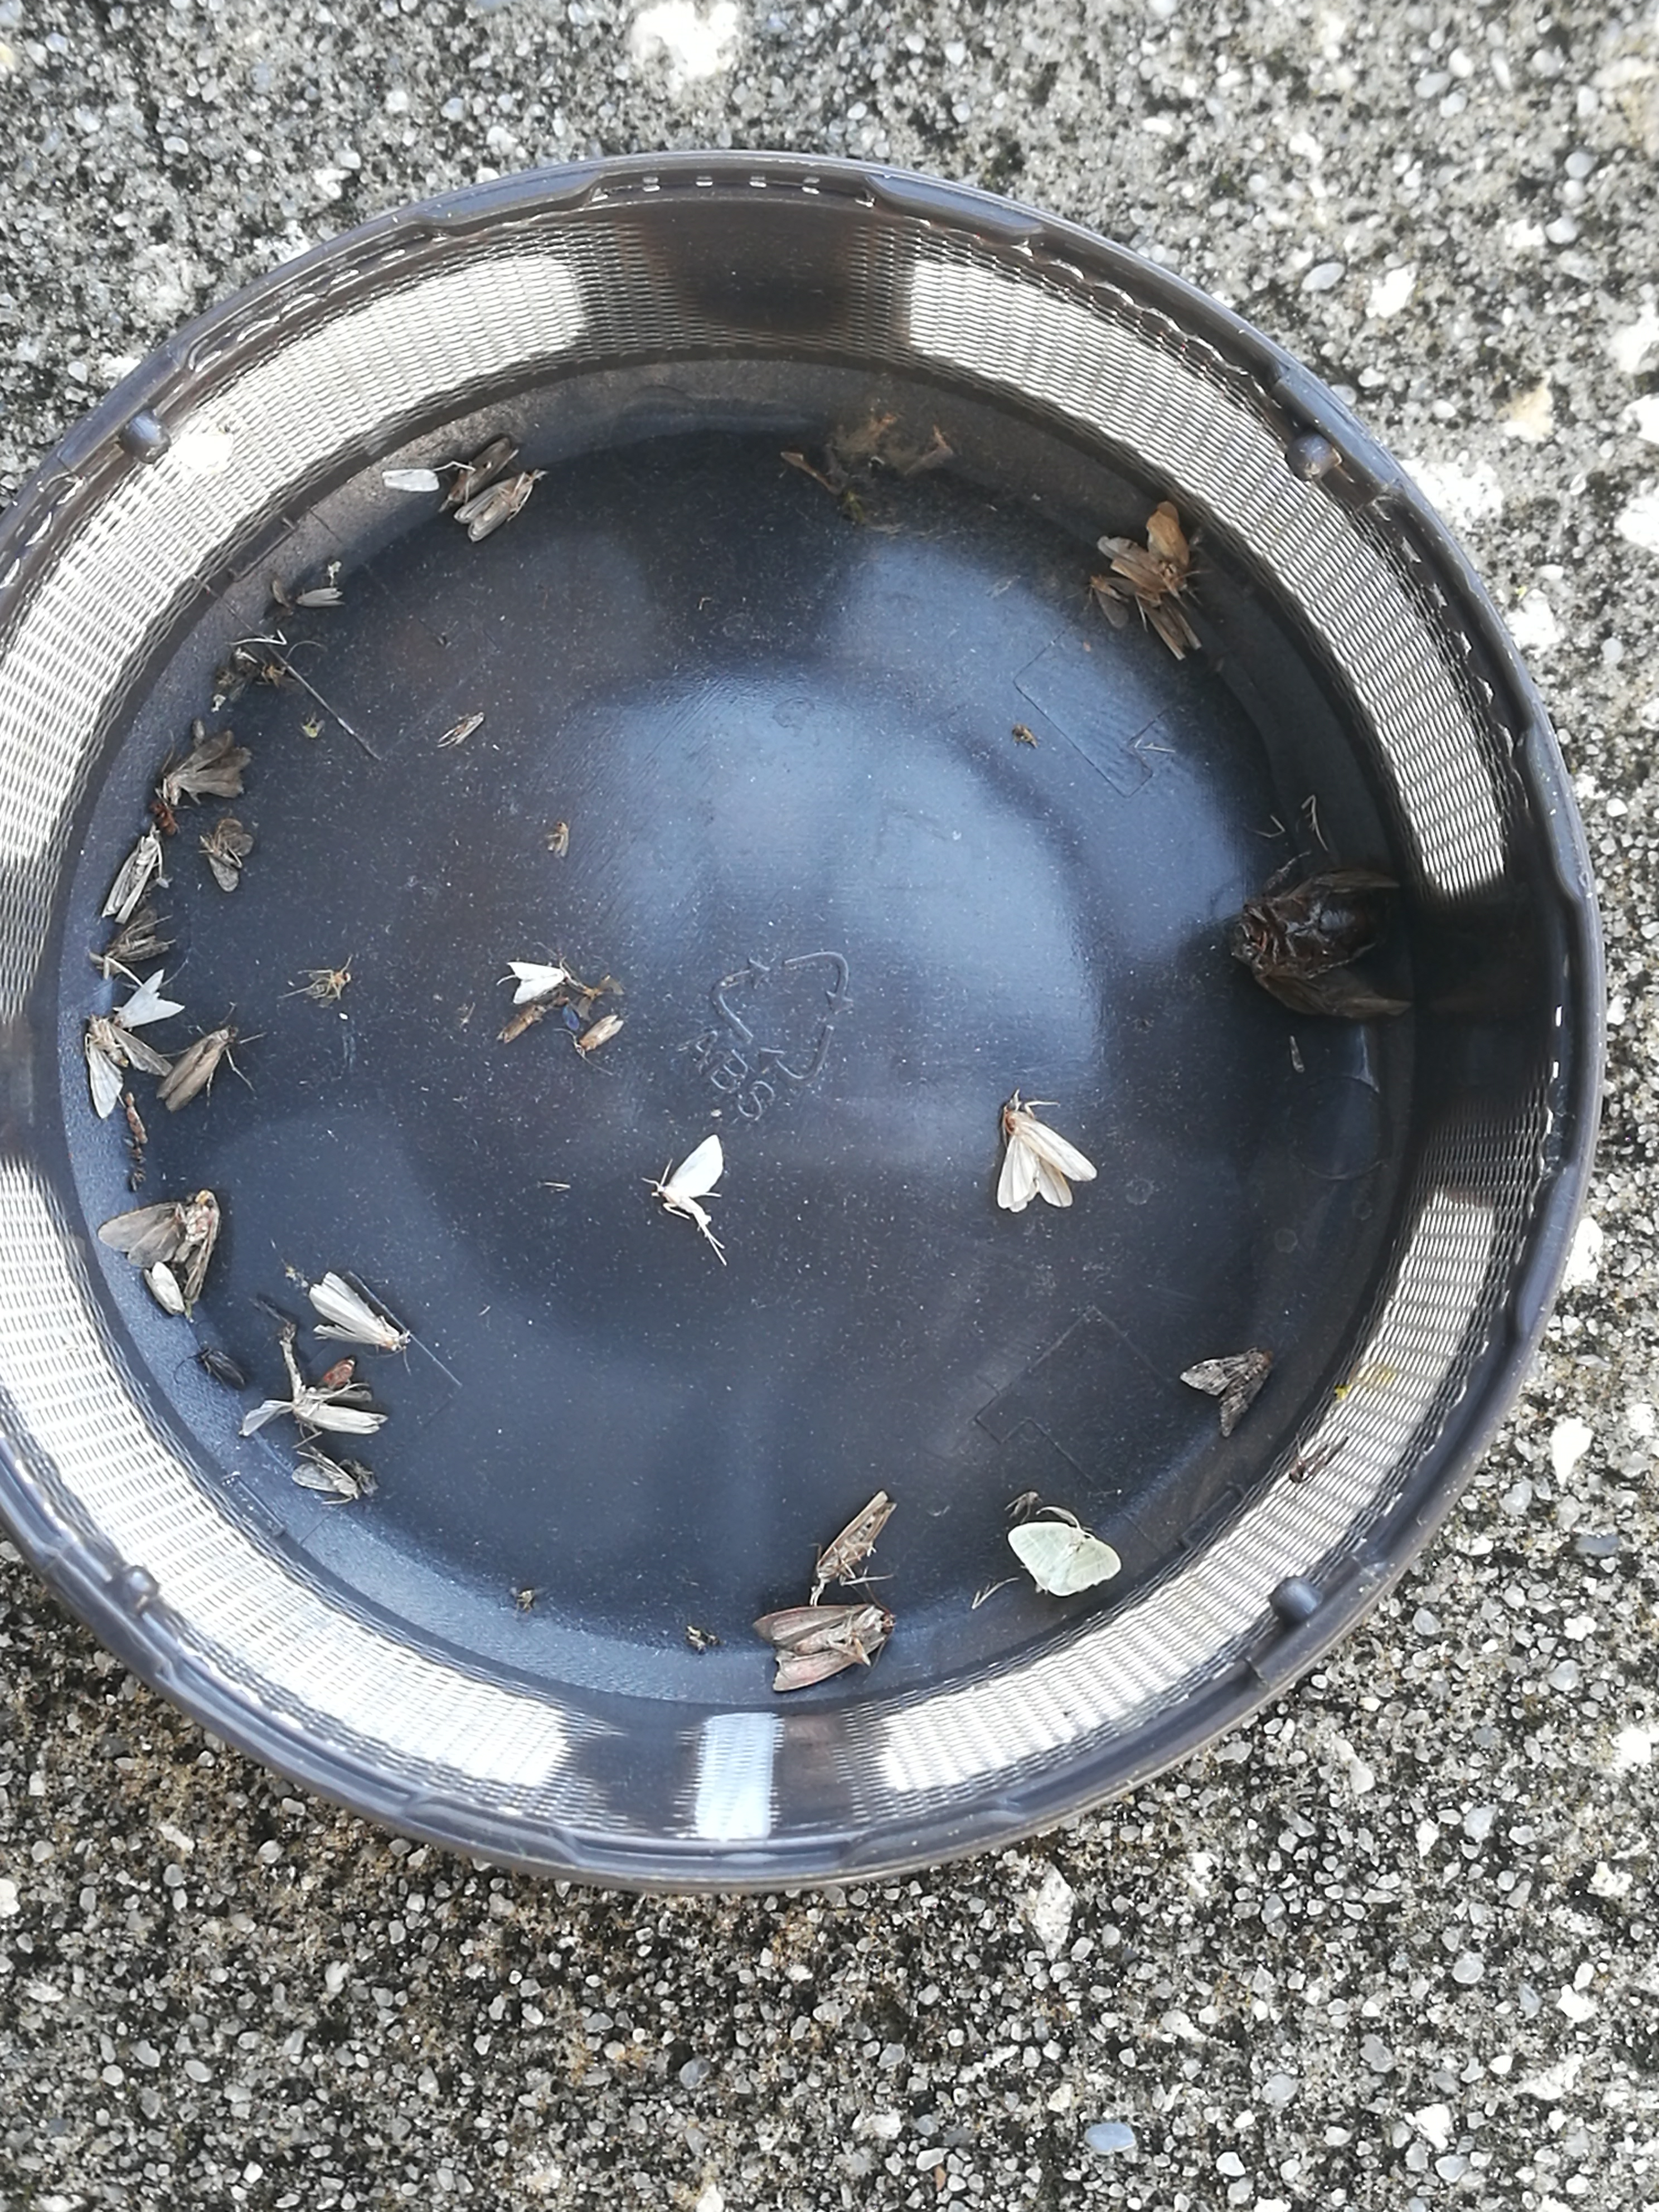beetle: (1230, 885, 1389, 979)
mosquito: (812, 1491, 896, 1590), (157, 1024, 239, 1109), (310, 1273, 401, 1350), (441, 437, 519, 514), (106, 831, 160, 923), (1141, 590, 1201, 658), (296, 1400, 387, 1433), (145, 1263, 185, 1315), (497, 1001, 544, 1043), (577, 1015, 624, 1052), (200, 1350, 242, 1386), (296, 589, 345, 608)
moth: (98, 1188, 220, 1305), (753, 1602, 896, 1691), (997, 1099, 1098, 1212), (1007, 1522, 1122, 1597), (87, 1015, 169, 1116), (1098, 502, 1187, 594), (1182, 1352, 1274, 1437), (652, 1136, 723, 1224), (164, 733, 251, 805), (457, 472, 535, 542), (113, 970, 185, 1028), (105, 904, 166, 960), (199, 833, 256, 890), (293, 1449, 357, 1496), (1087, 575, 1140, 627), (509, 961, 565, 1003)
